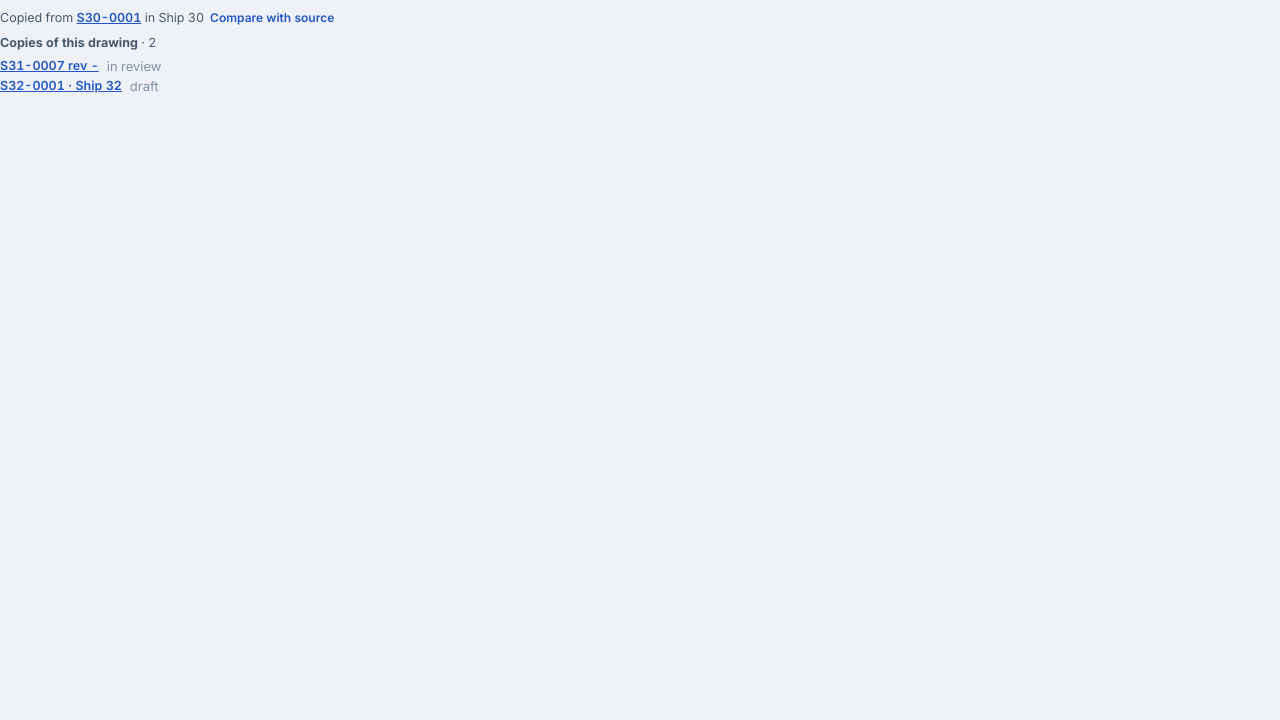
Test: DrawingLineage › lists the copies taken of a drawing and reports a failed comparison
expect the link "S31-0007 rev -" is shown: met, box x1=0 y1=58 x2=99 y2=74
expect the text "in review" is shown: met, box x1=107 y1=58 x2=162 y2=74
Click the button "Compare with source" at (272, 18), box x1=210 y1=10 x2=334 y2=25
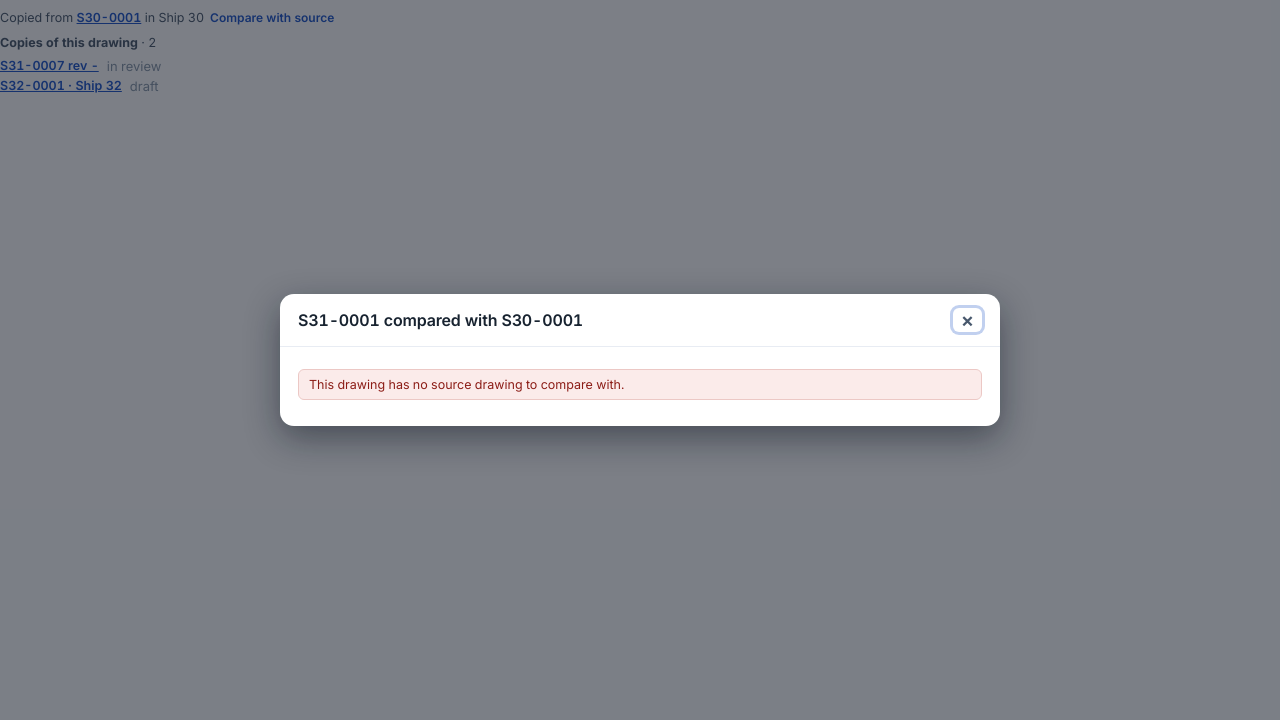
expect the message shows "no source drawing": met, box x1=309 y1=377 x2=624 y2=392
